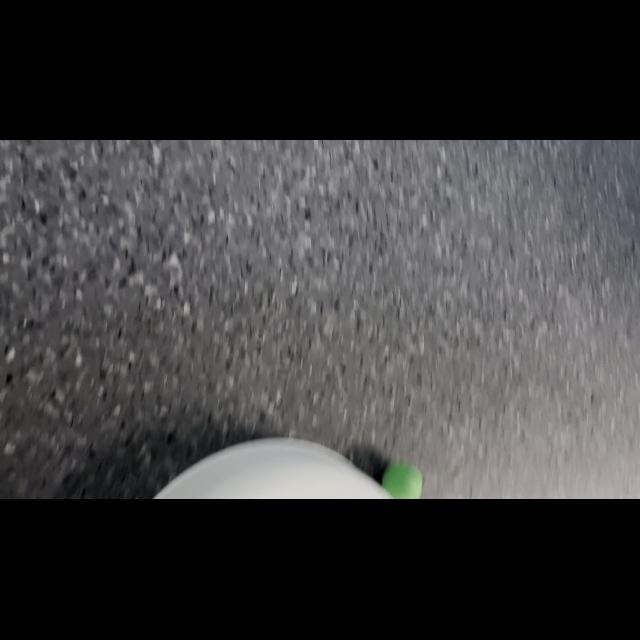objects: (378, 457, 427, 499)
